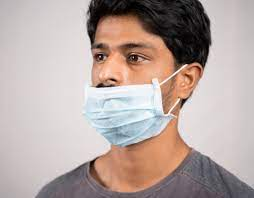mask_weared_incorrect: (87, 39, 162, 128)
